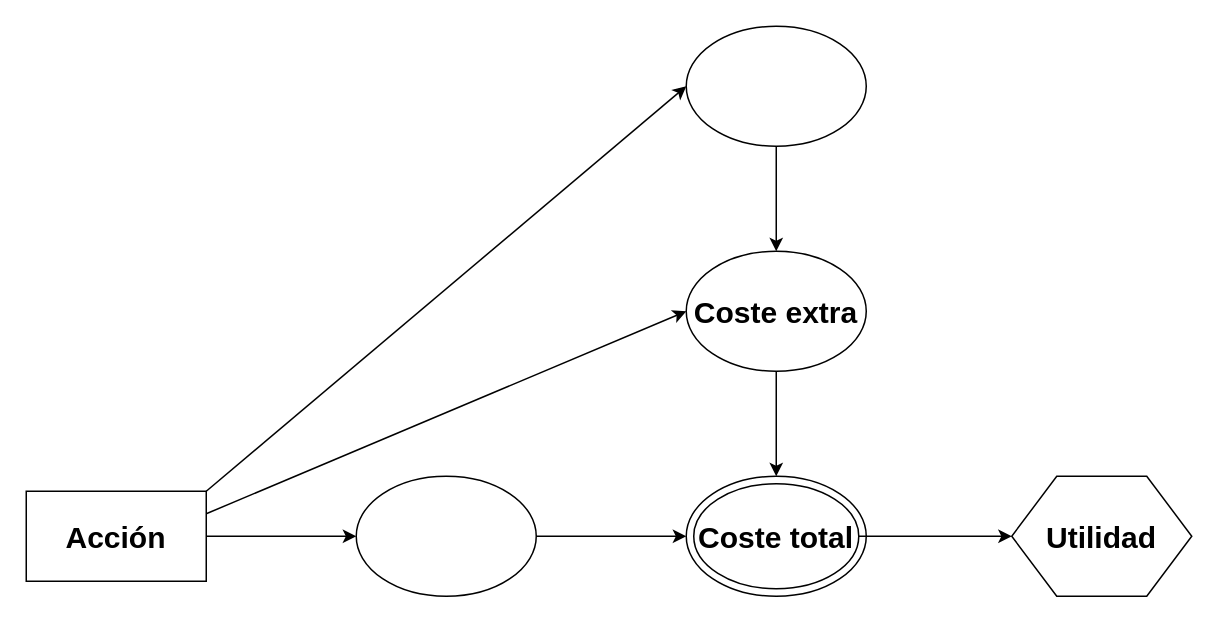
The diagram is 1218 pixels wide and 623 high, and some of its shapes have lost their labels. The centre of each missing label's shape, as x and y in pixels:
"Coste" belongs at (x=445, y=535).
"Peligro" belongs at (x=775, y=85).
